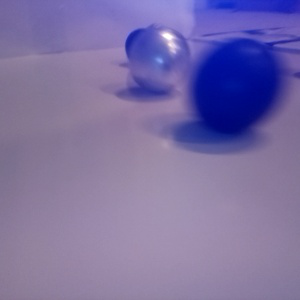alive_ball: (129, 24, 191, 92)
dead_ball: (192, 37, 282, 133), (125, 27, 155, 62)
